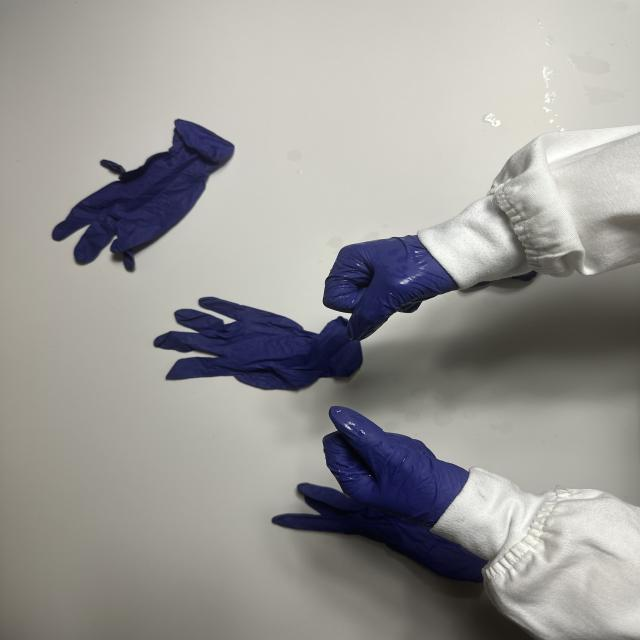gloves_contaminated: (323, 407, 468, 525), (324, 236, 458, 339)
